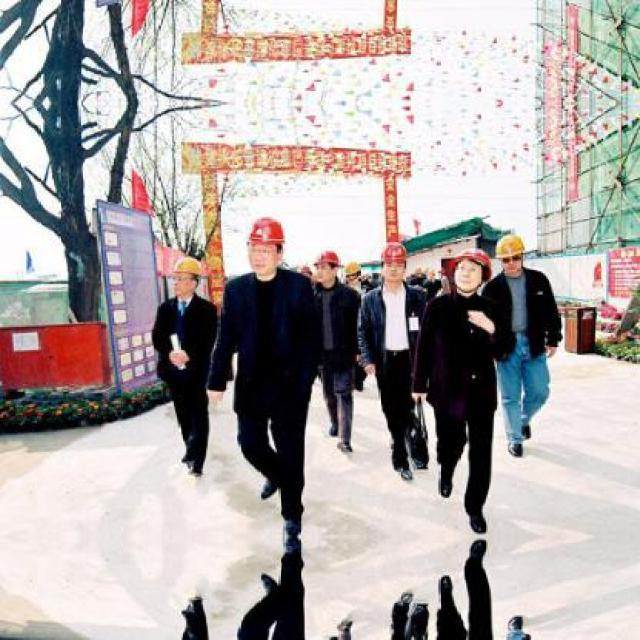helmet: (244, 212, 285, 274), (453, 246, 492, 292), (492, 229, 523, 275), (381, 239, 410, 284), (174, 251, 203, 296), (314, 247, 341, 285), (342, 256, 363, 285)
